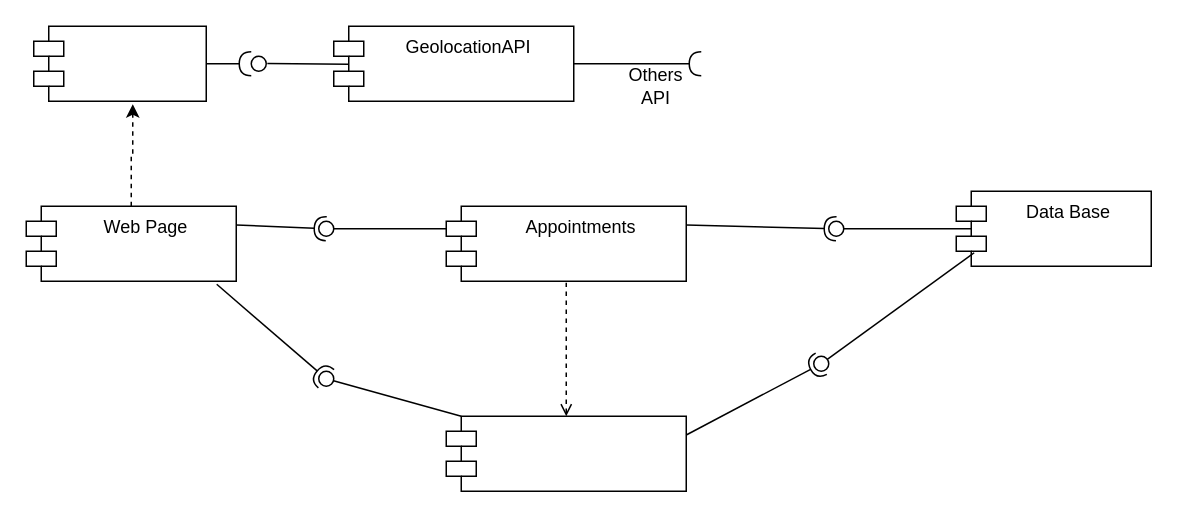
The diagram is 1178 pixels wide and 518 high, and some of its shapes have lost their labels. Each missing label, with the centre of its shape:
"Geolocation" belongs at point 119,63.
"User" belongs at point 565,453.
